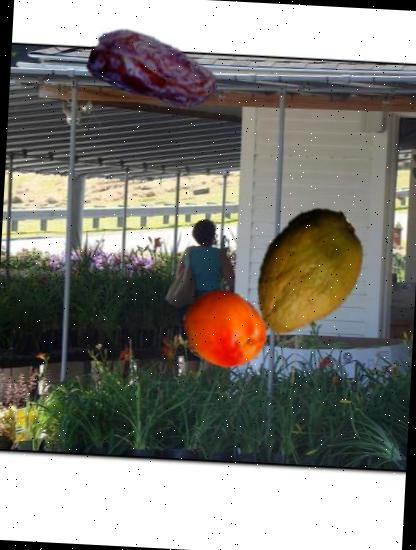Apricot: (180, 283, 270, 373)
Dates: (85, 1, 223, 138)
Papaya: (237, 201, 374, 338)
